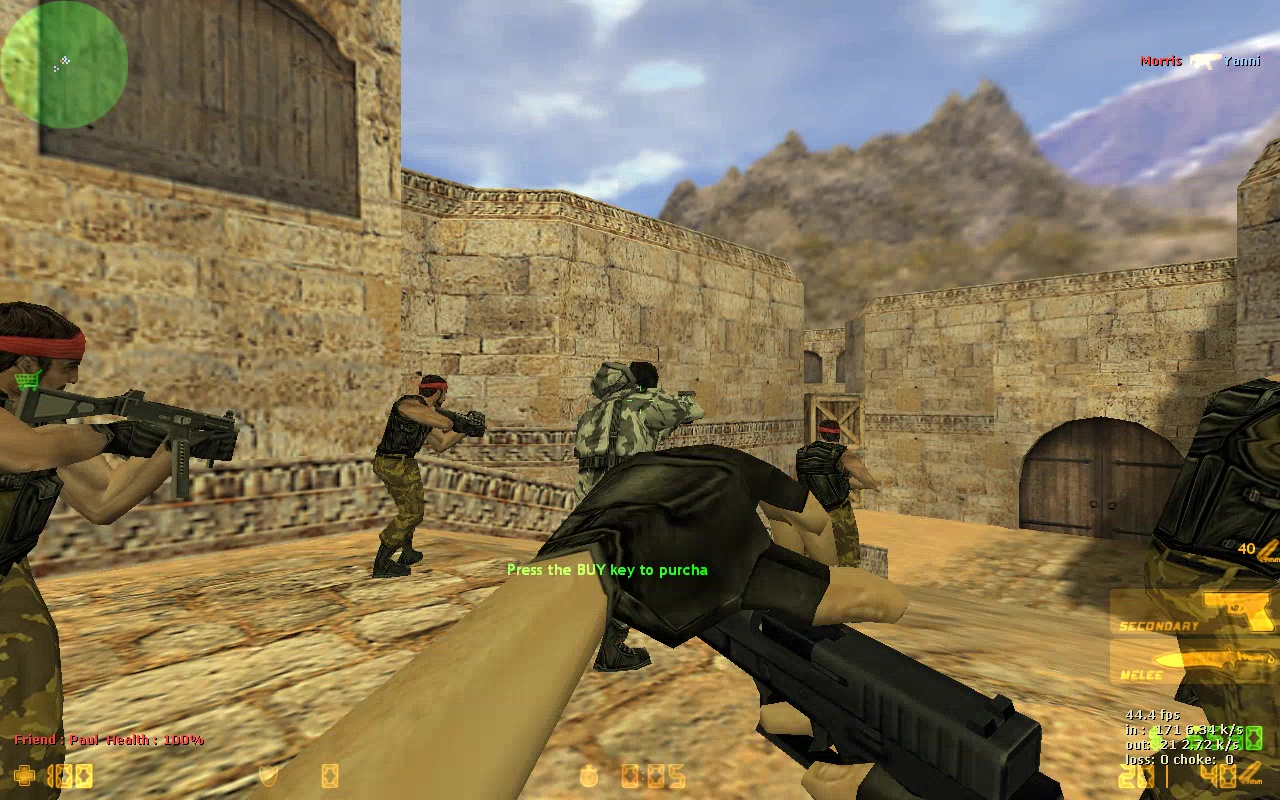terr1: (3, 303, 237, 800), (368, 371, 484, 577), (794, 420, 875, 605)
terr2: (573, 358, 702, 686)
